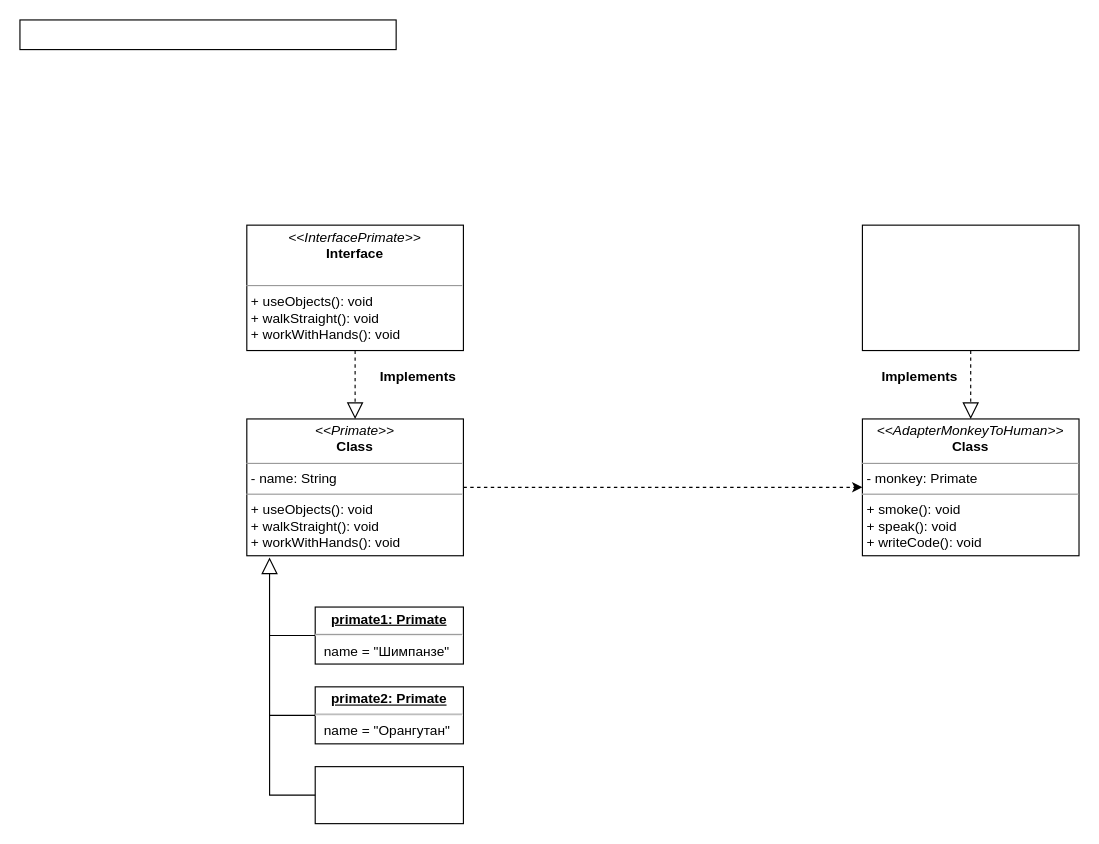
The diagram is 1099 pixels wide and 844 high, and some of its shapes have lost their labels. The shapes that lost their labels are listed below. From the top down, each one's centre as x and y in pixels, then its label:
[207,34]: Структурный шаблон проектирования "Адаптер"
[970,287]: <<InterfaceHuman>> Interface + smoke(): void + speak(): void + writeCode(): void
[388,795]: primate3: Primate name = "Горилла "
